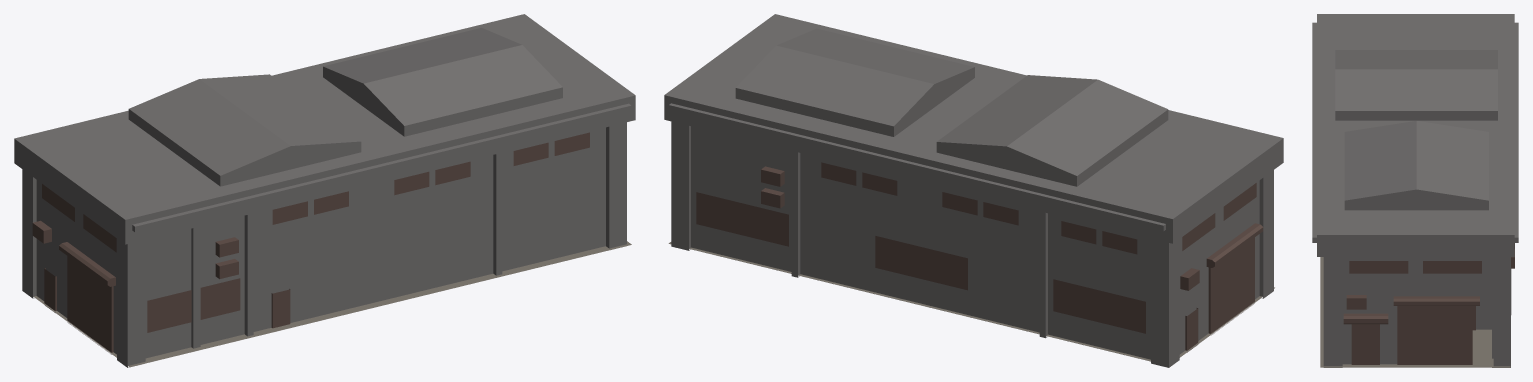
The model's file is ind-warehouse-1.walls-v2.lod2.glb.
3 renders of one model, left to right at view 1: azimuth 30°, elevation 25°; view 2: azimuth 150°, elevation 25°; view 3: azimuth 270°, elevation 25°, orthographic. The views are drawn at different scales.
Visible parts, largest first — view 1: Industrial_Warehouse_1_Industrial_Walls_FLR_1_0; view 2: Industrial_Warehouse_1_Industrial_Walls_FLR_1_0; view 3: Industrial_Warehouse_1_Industrial_Walls_FLR_1_0.
Part boxes in pixels (x1=…): Industrial_Warehouse_1_Industrial_Walls_FLR_1_0: x1=14, y1=14, x2=635, y2=367; Industrial_Warehouse_1_Industrial_Walls_FLR_1_0: x1=664, y1=14, x2=1283, y2=367; Industrial_Warehouse_1_Industrial_Walls_FLR_1_0: x1=1312, y1=14, x2=1518, y2=367.
Bounding box in the file's own units: 33.83 × 11.12 × 13.36.
